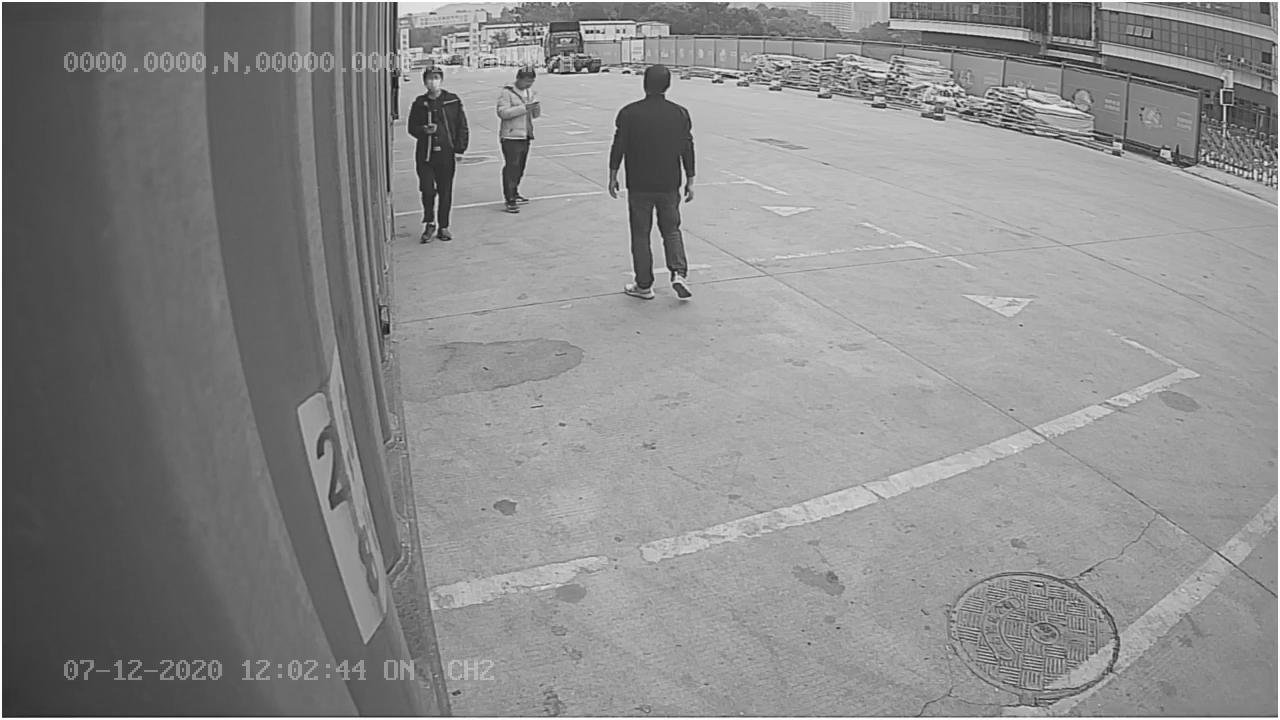person: (608, 61, 702, 305)
